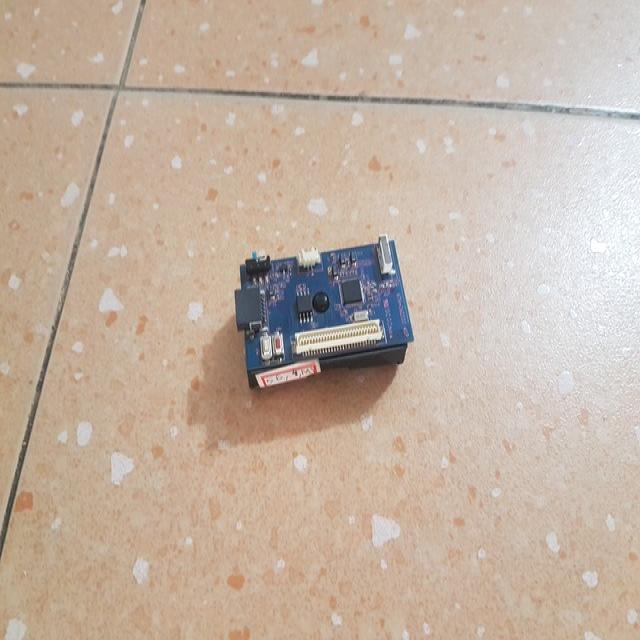TelosB: (235, 236, 415, 389)
